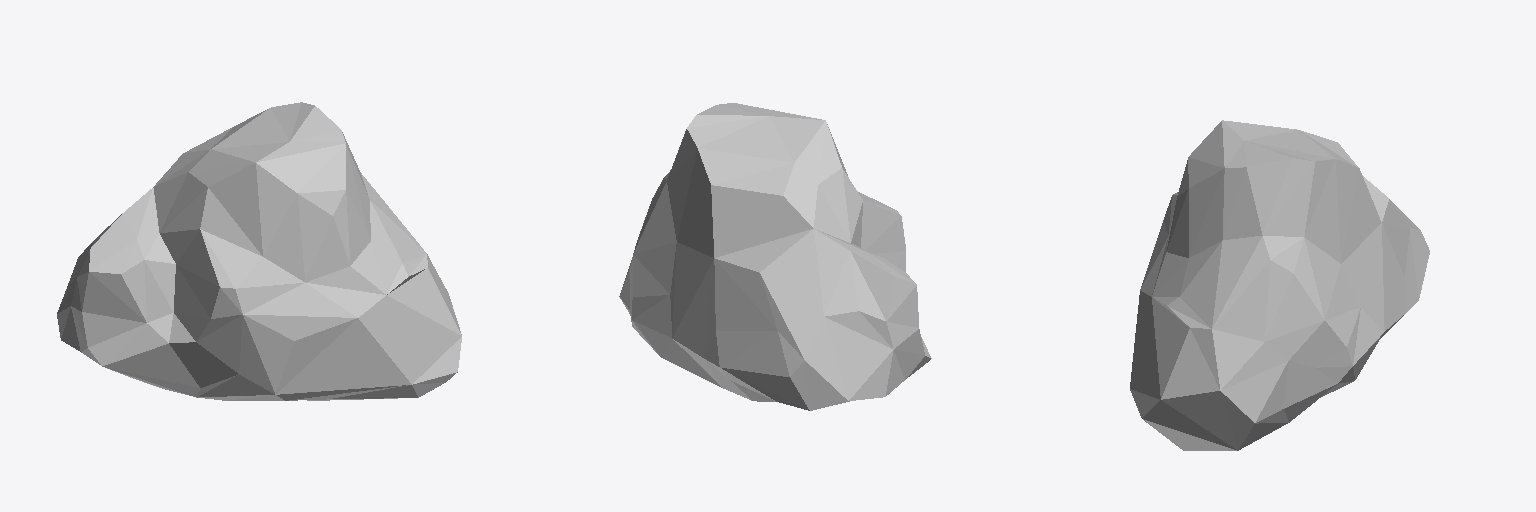
Rendered from Rock4_LowPolyMesh.obj.
The picture shows the model from 3 angles: view 1: azimuth 30°, elevation 25°; view 2: azimuth 150°, elevation 25°; view 3: azimuth 270°, elevation 25°; orthographic projection.
Parts seen in each view (by area): view 1: rock4_LowPolyMesh; view 2: rock4_LowPolyMesh; view 3: rock4_LowPolyMesh.
Part boxes in pixels (left/top/right/bottom): rock4_LowPolyMesh: left=57, top=102, right=461, bottom=400; rock4_LowPolyMesh: left=619, top=103, right=931, bottom=410; rock4_LowPolyMesh: left=1130, top=120, right=1429, bottom=450.
Bounding box in the file's own units: 2.55 × 1.95 × 2.04.